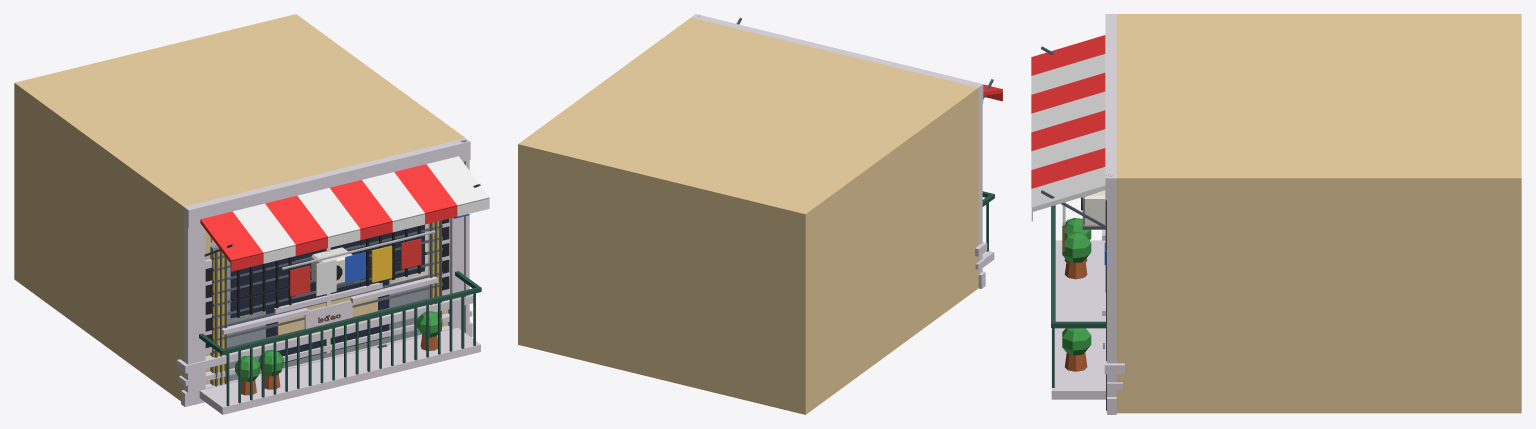
File: shophouse.glb
The picture shows the model from 3 angles, left to right: view 1: azimuth 30°, elevation 25°; view 2: azimuth 150°, elevation 25°; view 3: azimuth 270°, elevation 25°; orthographic projection. The views are drawn at different scales.
Visible parts, largest first — view 1: ground_shop, ground_shutter, upper_b, roof_a, upper_a, roof_b; view 2: ground_shop, ground_shutter, roof_a, roof_b; view 3: ground_shop, ground_shutter, upper_b, roof_a, upper_a, roof_b.
Part boxes in pixels (x1=…): ground_shop: x1=14, y1=14, x2=489, y2=406; ground_shutter: x1=14, y1=15, x2=489, y2=400; upper_b: x1=199, y1=218, x2=481, y2=414; roof_a: x1=14, y1=243, x2=473, y2=400; upper_a: x1=181, y1=140, x2=472, y2=406; roof_b: x1=14, y1=258, x2=472, y2=400; ground_shop: x1=518, y1=14, x2=1002, y2=414; ground_shutter: x1=518, y1=18, x2=1002, y2=412; roof_a: x1=518, y1=242, x2=987, y2=414; roof_b: x1=518, y1=259, x2=984, y2=413; ground_shop: x1=1031, y1=14, x2=1521, y2=413; ground_shutter: x1=1031, y1=14, x2=1521, y2=413; upper_b: x1=1051, y1=202, x2=1105, y2=399; roof_a: x1=1104, y1=240, x2=1521, y2=413; upper_a: x1=1080, y1=174, x2=1116, y2=414; roof_b: x1=1107, y1=382, x2=1521, y2=413.
Bounding box in the file's own units: 4.92 × 3.2 × 6.05.
